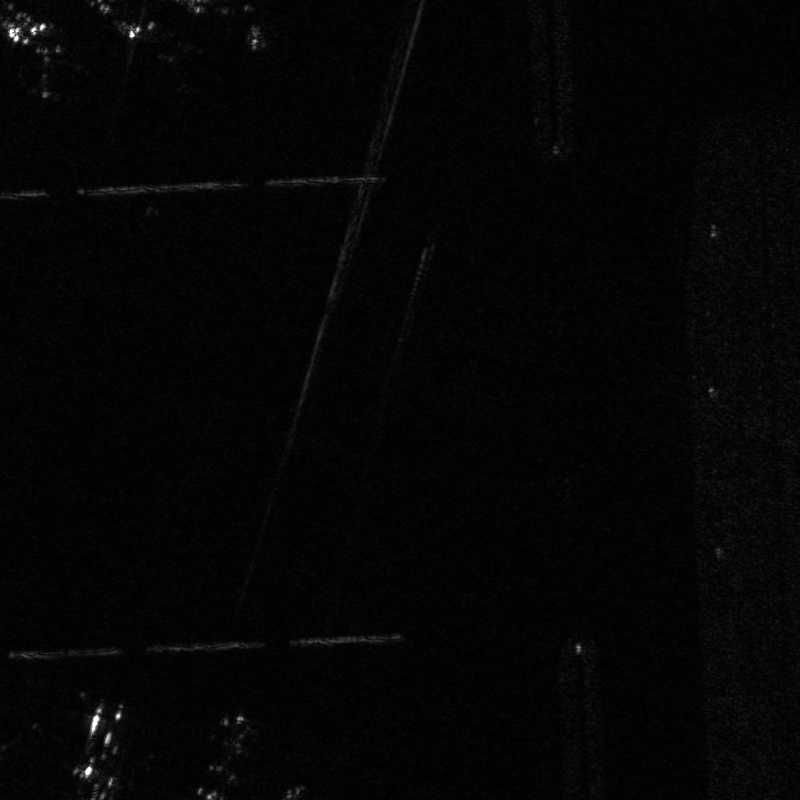A320/321: (14, 22, 84, 102)
